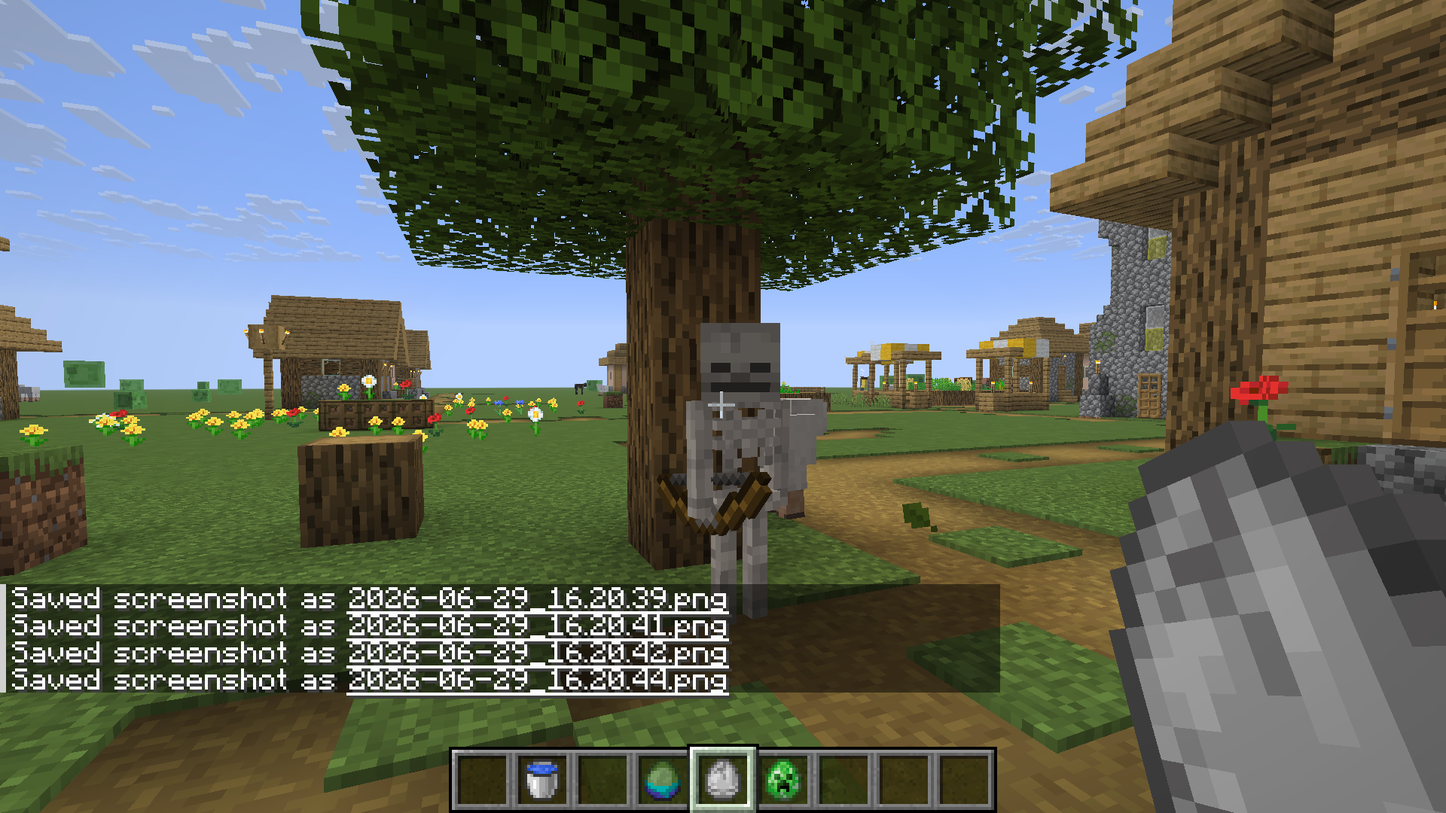skeleton: (676, 319, 817, 603)
